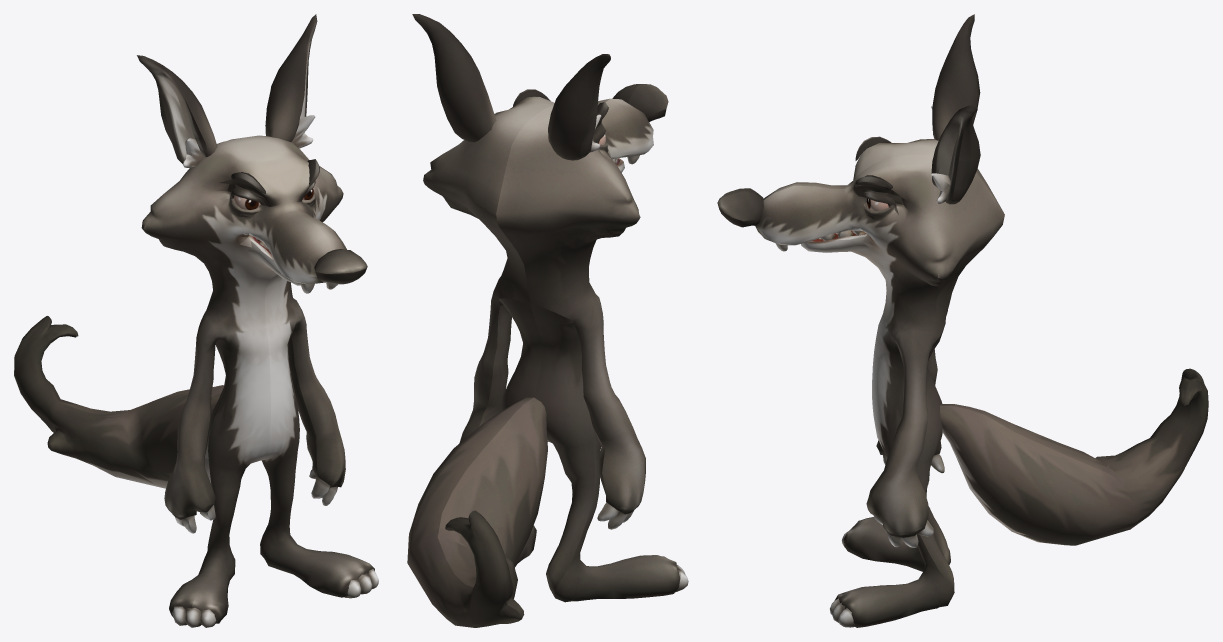
Rendered from coyote_idle.glb.
3 views of the same model, side by side, from view 1: azimuth 30°, elevation 25°; view 2: azimuth 150°, elevation 25°; view 3: azimuth 270°, elevation 25° (orthographic). The views are drawn at different scales.
Parts seen in each view (by area): view 1: Lumi; view 2: Lumi; view 3: Lumi.
Boxes of the visible parts, left/top/right/bottom form: Lumi: left=14, top=14, right=378, bottom=627; Lumi: left=407, top=14, right=688, bottom=627; Lumi: left=717, top=14, right=1208, bottom=627.
Bounding box in the file's own units: 0.6439 × 1.59 × 1.33.
Materials: 1 (1 with a texture image).
